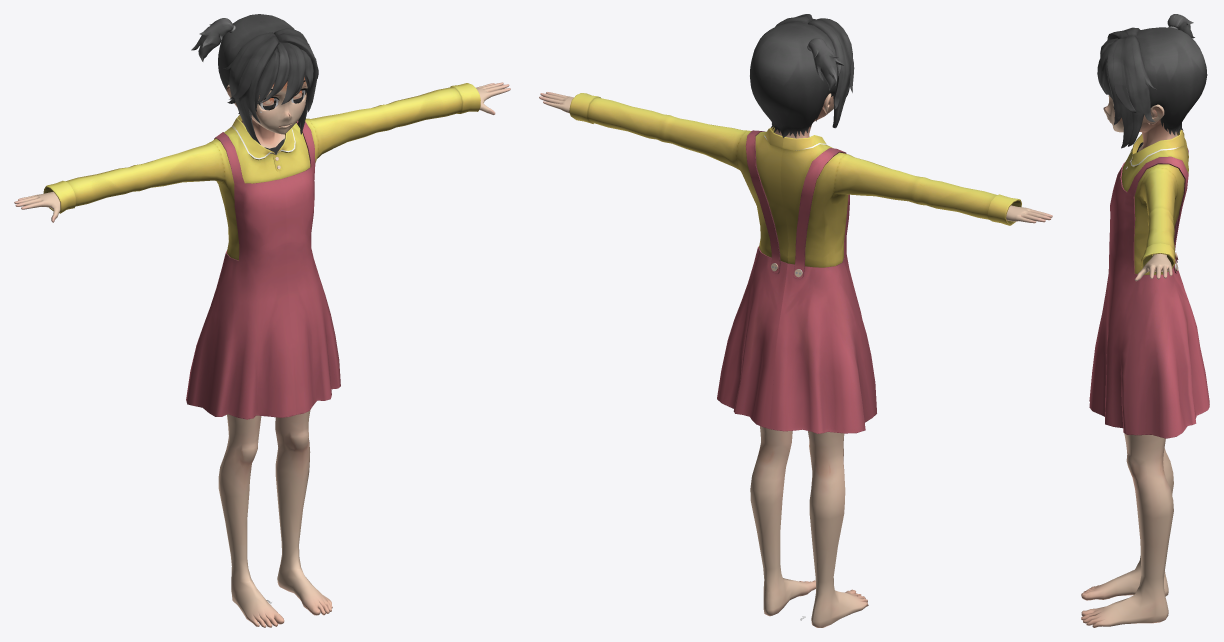
The picture shows the model from 3 angles, left to right: view 1: azimuth 30°, elevation 25°; view 2: azimuth 150°, elevation 25°; view 3: azimuth 270°, elevation 25°; orthographic projection. The views are drawn at different scales.
Parts seen in each view (by area): view 1: yandereChild_Clothes_Mesh_160, yandereChild_Body_Mesh_159, yandereChild_Hair_Mesh_161, yandereChild_Head_Mesh_162; view 2: yandereChild_Clothes_Mesh_160, yandereChild_Body_Mesh_159, yandereChild_Hair_Mesh_161; view 3: yandereChild_Clothes_Mesh_160, yandereChild_Hair_Mesh_161, yandereChild_Body_Mesh_159, yandereChild_Head_Mesh_162.
Boxes of the visible parts, x1,y1,x2,y2 form: yandereChild_Clothes_Mesh_160: (43,83,480,419); yandereChild_Body_Mesh_159: (14,82,510,627); yandereChild_Hair_Mesh_161: (191,14,318,144); yandereChild_Head_Mesh_162: (226,77,307,154); yandereChild_Clothes_Mesh_160: (569,93,1021,433); yandereChild_Body_Mesh_159: (539,92,1052,627); yandereChild_Hair_Mesh_161: (750,14,854,137); yandereChild_Clothes_Mesh_160: (1089,130,1209,438); yandereChild_Hair_Mesh_161: (1097,14,1207,148); yandereChild_Body_Mesh_159: (1081,253,1173,627); yandereChild_Head_Mesh_162: (1103,95,1177,152).
Size of the model in its own units: 1.43 by 1.6 by 0.3205.
Materials: 5 (4 with a texture image).
